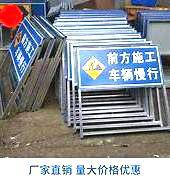sign: (78, 47, 162, 83), (10, 32, 35, 80)
